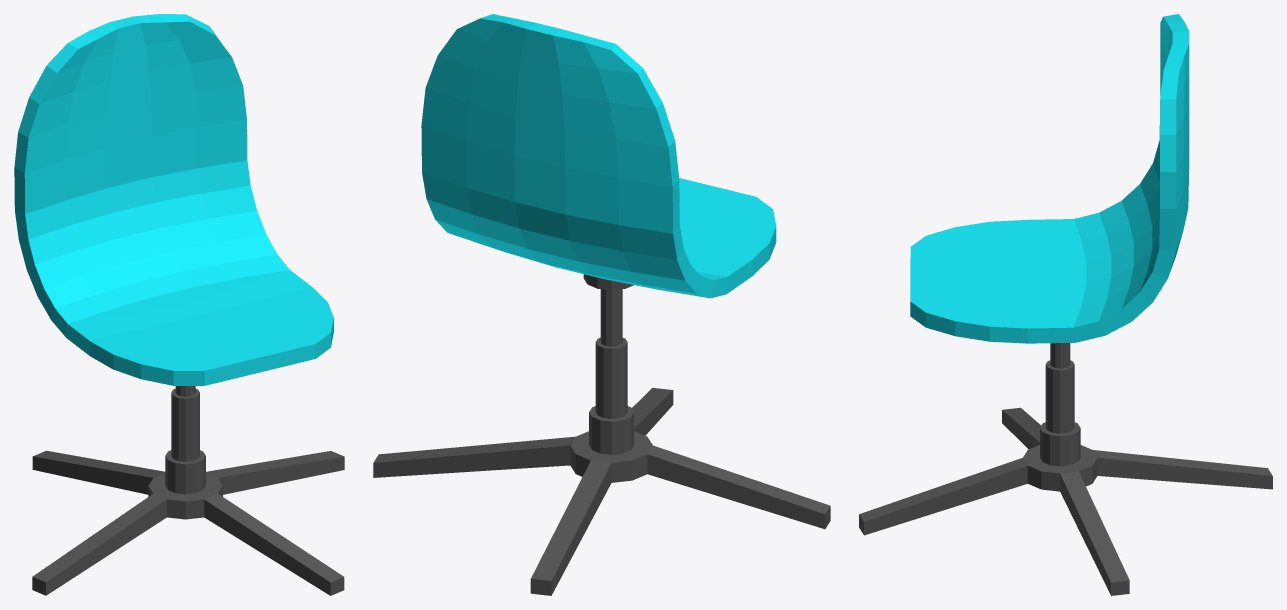
The model's file is Chair_10c.fbx.
The picture shows the model from 3 angles, left to right: view 1: azimuth 30°, elevation 25°; view 2: azimuth 150°, elevation 25°; view 3: azimuth 270°, elevation 25°; orthographic projection. The views are drawn at different scales.
Parts seen in each view (by area): view 1: Chair_10c; view 2: Chair_10c; view 3: Chair_10c.
Boxes of the visible parts, box(x1,y1,x2,y2) form: Chair_10c: box(14, 14, 344, 595); Chair_10c: box(373, 14, 830, 595); Chair_10c: box(859, 14, 1272, 595).
Size of the model in its own units: 0.9546 by 1.19 by 0.9546.
